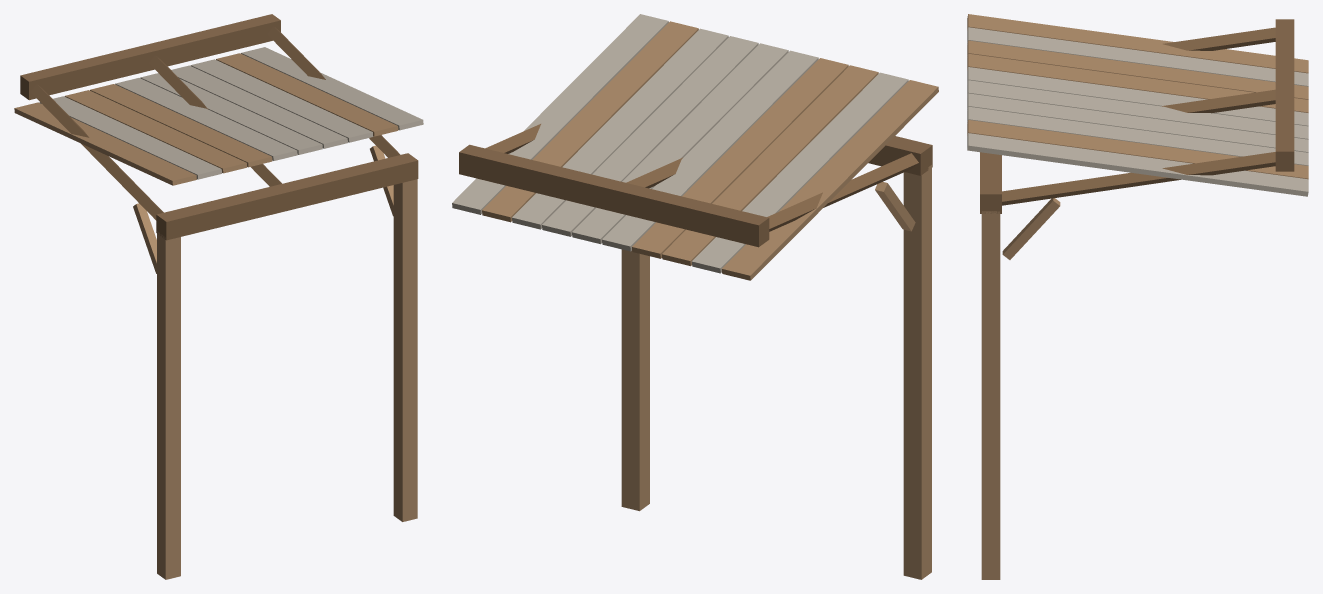
The model's file is SM_Porch_Awning.glb.
3 views of the same model, side by side, from view 1: azimuth 30°, elevation 25°; view 2: azimuth 150°, elevation 25°; view 3: azimuth 270°, elevation 25° (orthographic). The views are drawn at different scales.
Parts seen in each view (by area): view 1: SM_Porch_Awning; view 2: SM_Porch_Awning; view 3: SM_Porch_Awning.
Boxes of the visible parts, x1,y1,x2,y2 form: SM_Porch_Awning: [14, 14, 423, 579]; SM_Porch_Awning: [452, 14, 938, 579]; SM_Porch_Awning: [967, 14, 1308, 579].
Size of the model in its own units: 2 by 3.06 by 2.18.
